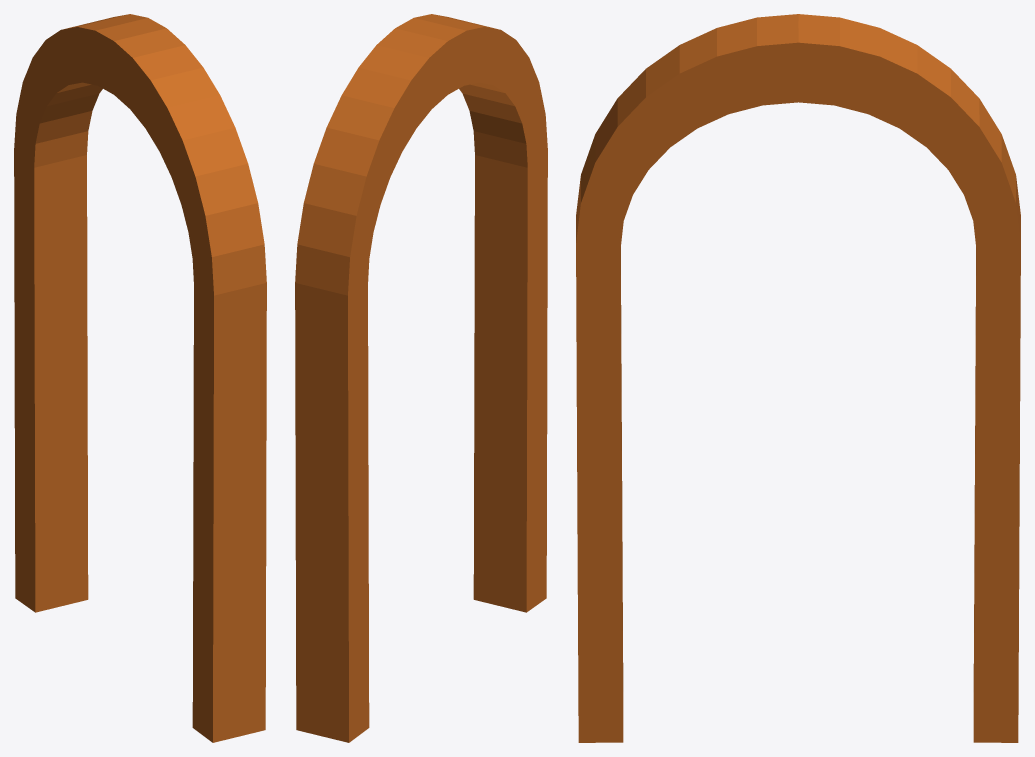
File: room_escape_new_menkuang.obj
3 views of the same model, side by side, from view 1: azimuth 30°, elevation 25°; view 2: azimuth 150°, elevation 25°; view 3: azimuth 270°, elevation 25° (orthographic). The views are drawn at different scales.
Parts seen in each view (by area): view 1: 立方体.012_wooden; view 2: 立方体.012_wooden; view 3: 立方体.012_wooden.
Boxes of the visible parts, bbox=[...] form: 立方体.012_wooden: bbox=[14, 14, 266, 742]; 立方体.012_wooden: bbox=[295, 14, 547, 742]; 立方体.012_wooden: bbox=[576, 14, 1020, 742].
Bounding box in the file's own units: 0.342 × 3.89 × 2.24.
